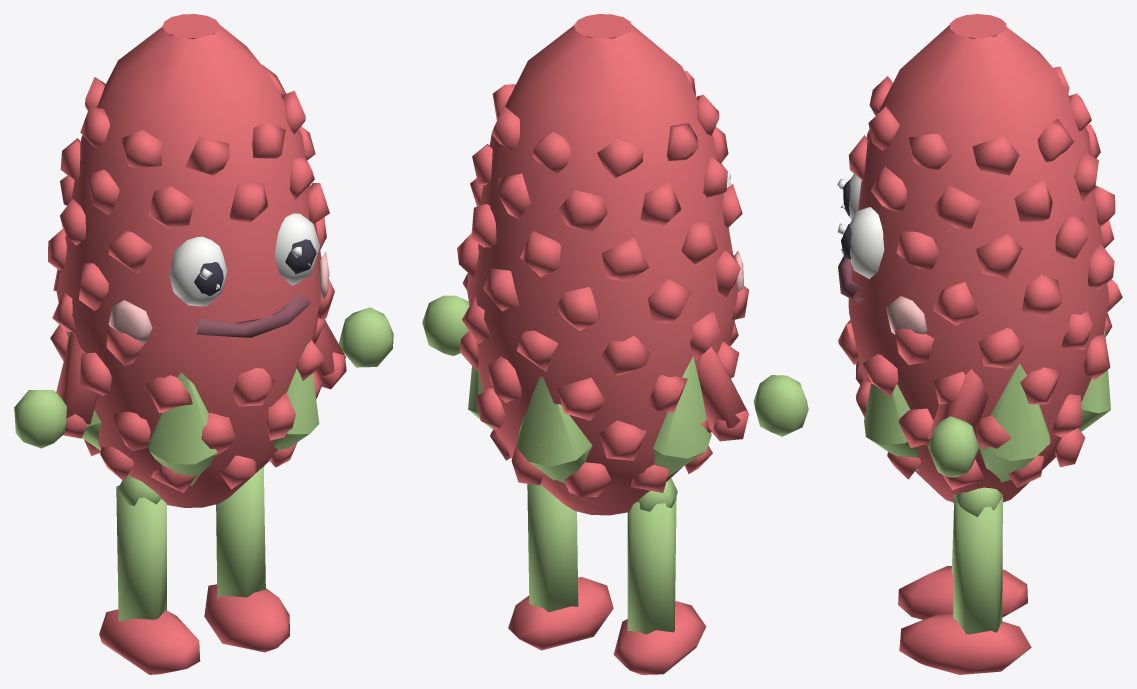
The model's file is Corn.fbx.
3 views of the same model, side by side, from view 1: azimuth 30°, elevation 25°; view 2: azimuth 150°, elevation 25°; view 3: azimuth 270°, elevation 25° (orthographic).
Visible parts, largest first — view 1: EX_Corn; view 2: EX_Corn; view 3: EX_Corn.
Boxes of the visible parts, left/top/right/bottom form: EX_Corn: left=14, top=14, right=393, bottom=674; EX_Corn: left=422, top=14, right=808, bottom=674; EX_Corn: left=837, top=14, right=1122, bottom=674.
Bounding box in the file's own units: 151 × 240 × 100.
